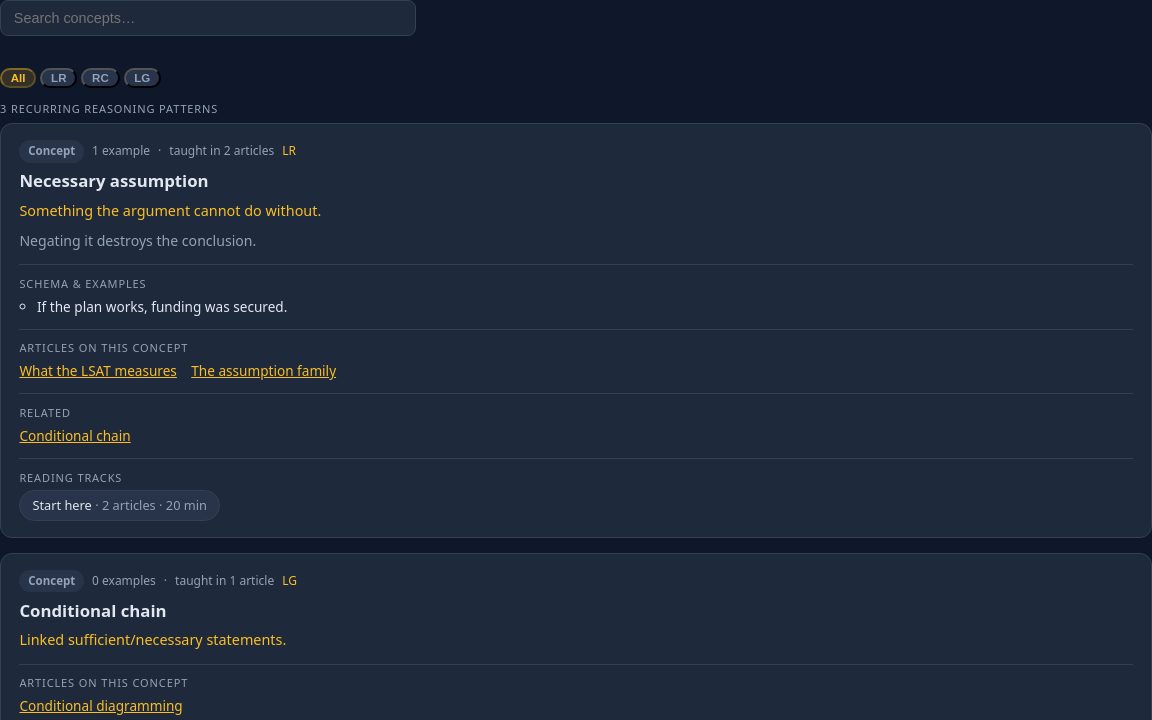
Test: catalog filters › narrows by section
Click the button with aria-label "Logic Games".
click(142, 78)  # box [124, 68, 161, 88]
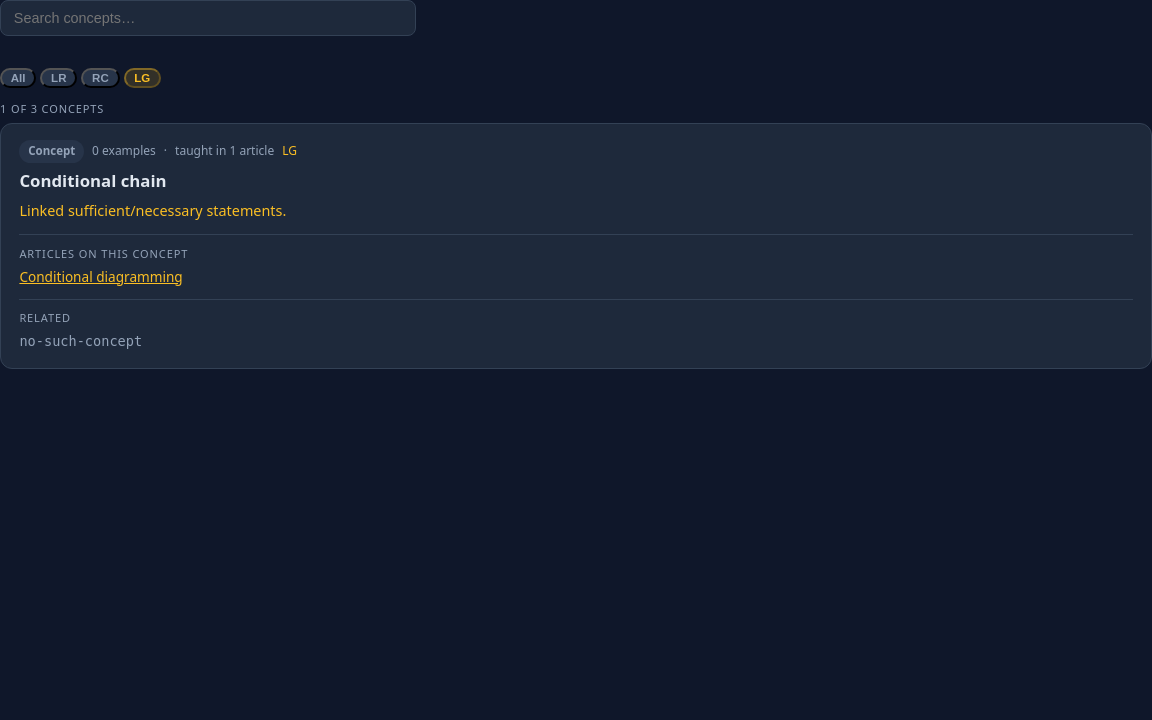
Expected: the heading "Conditional chain" is shown, [19, 169, 167, 192]
Expected: the text "1 of 3 concepts" is shown, [0, 101, 104, 116]
Expected: the heading "Necessary assumption" is gone
